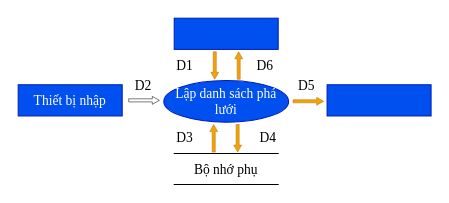
Some shapes in this 449 by 203 pixel diagram are drawn without their labels. Here are the shapes that lost their labels. From the top down, the box of each, then its label:
(173, 17, 278, 49): Người dùng
(326, 84, 431, 116): Thiết bị xuất
